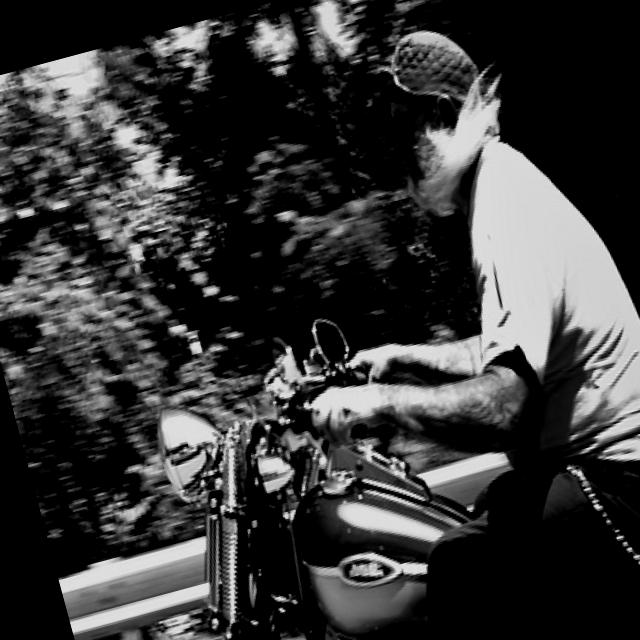Vehicle: (11, 237, 640, 640)
